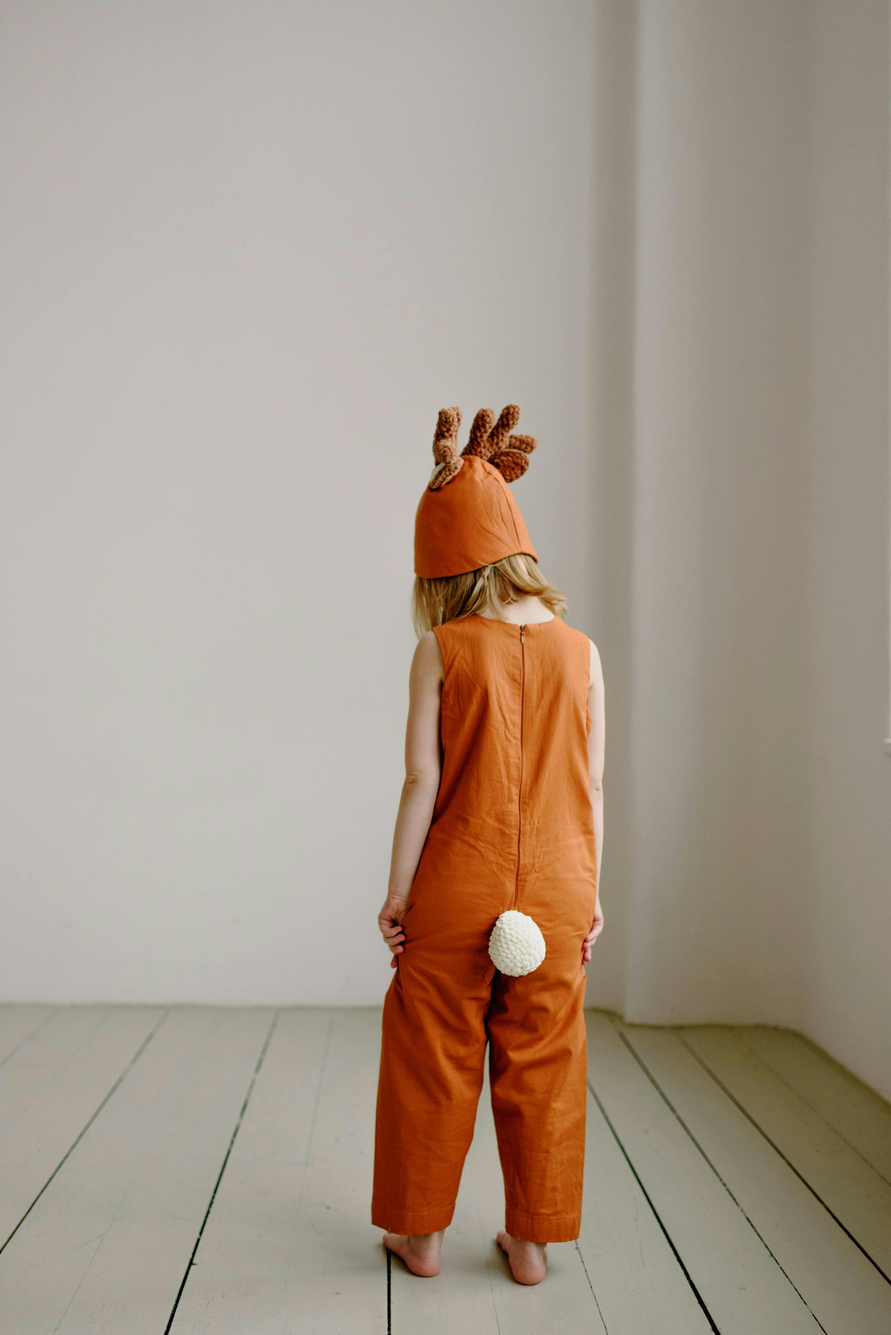Human: (325, 328, 655, 1294)
